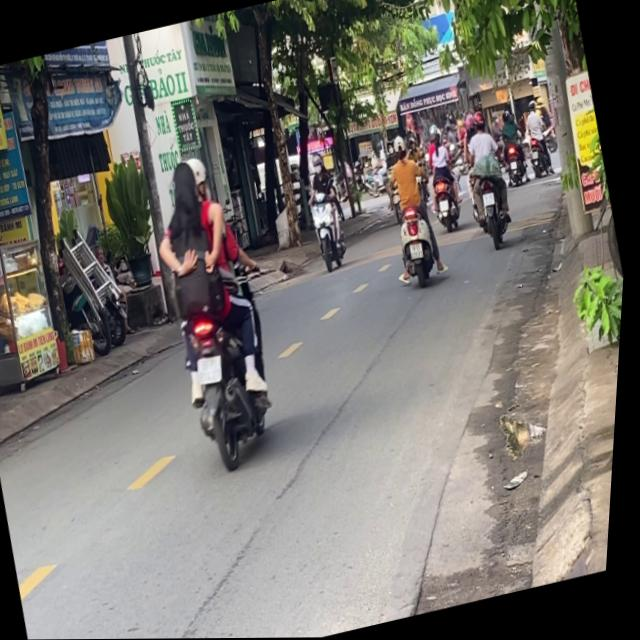helmet: (185, 154, 215, 203), (391, 132, 411, 160)
licenseplate: (130, 143, 307, 475), (371, 127, 457, 292)
motorcyclist: (164, 157, 206, 215)
nohelmet: (199, 354, 229, 386), (411, 241, 427, 260)
